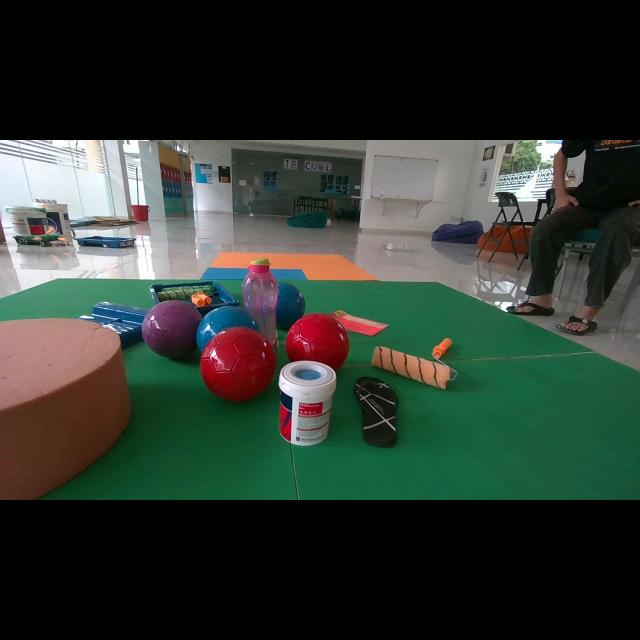B: (196, 306, 259, 352), (276, 282, 305, 329)
P: (142, 300, 201, 359)
R: (200, 326, 276, 401), (285, 312, 350, 370)
